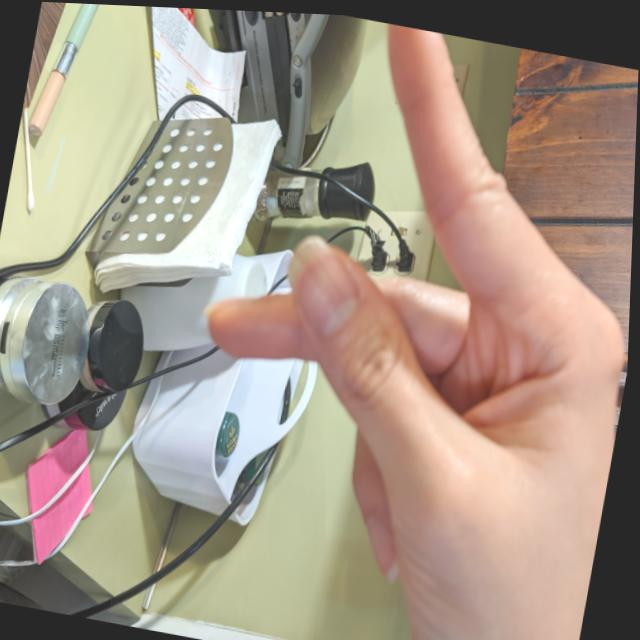P: (147, 5, 639, 640)
